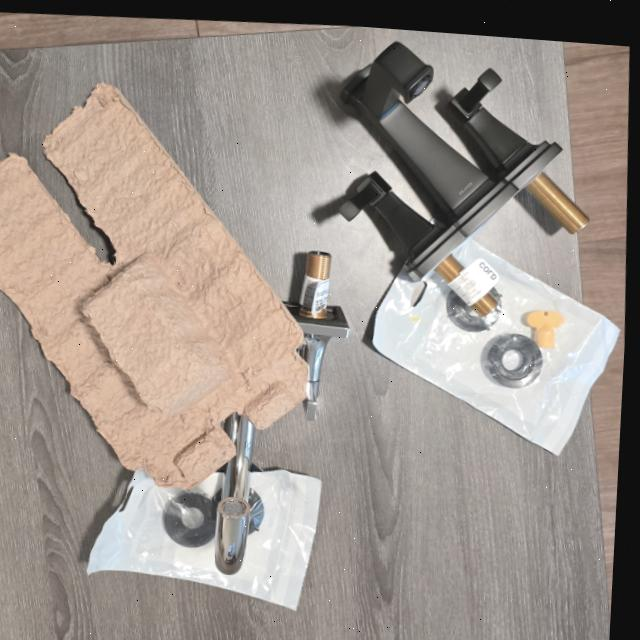10o: (283, 250, 349, 419), (214, 412, 254, 573)
12o: (372, 238, 618, 453)
13o: (87, 468, 321, 608)
9: (340, 41, 587, 320)
